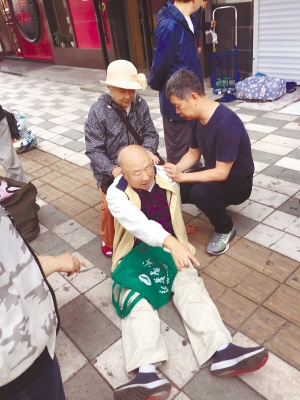falling: (95, 129, 271, 400)
